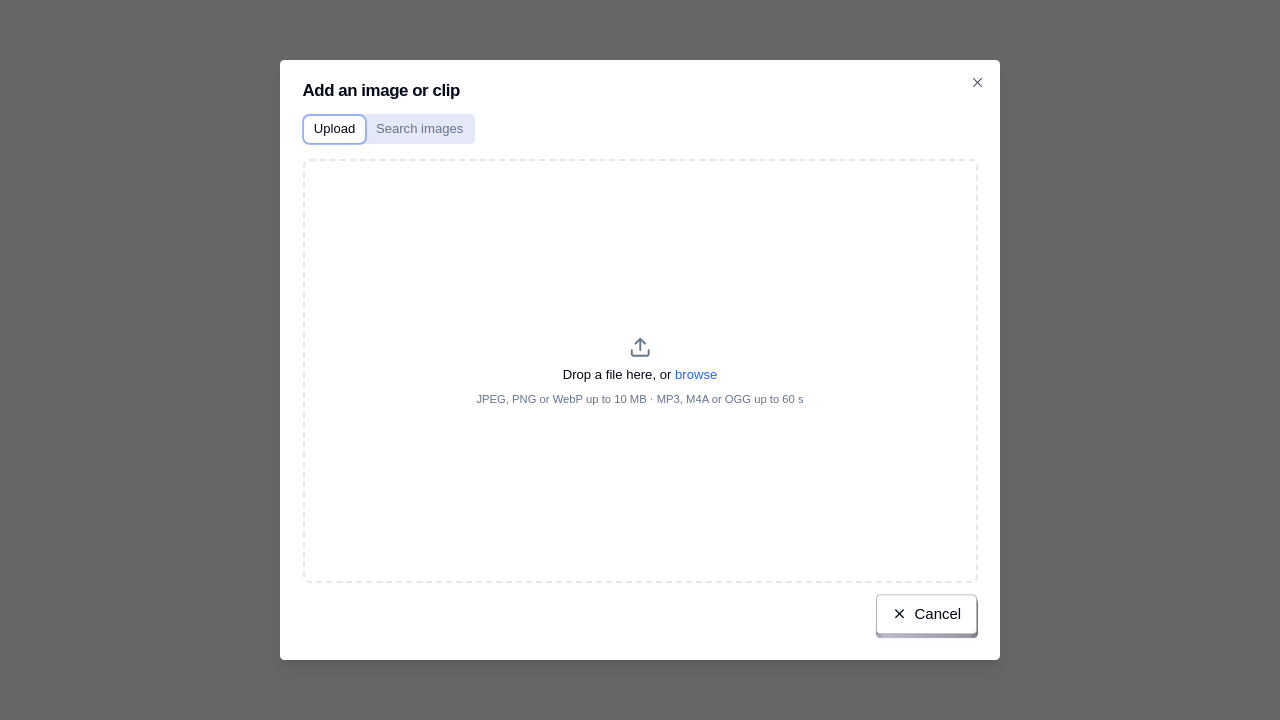
Test: AddMediaDialog — Search images › shows why an import was refused, and keeps the dialog open
The image size is (1280, 720).
Click the radio button labelled "Search images" at (420, 129), box [366,116,473,143]
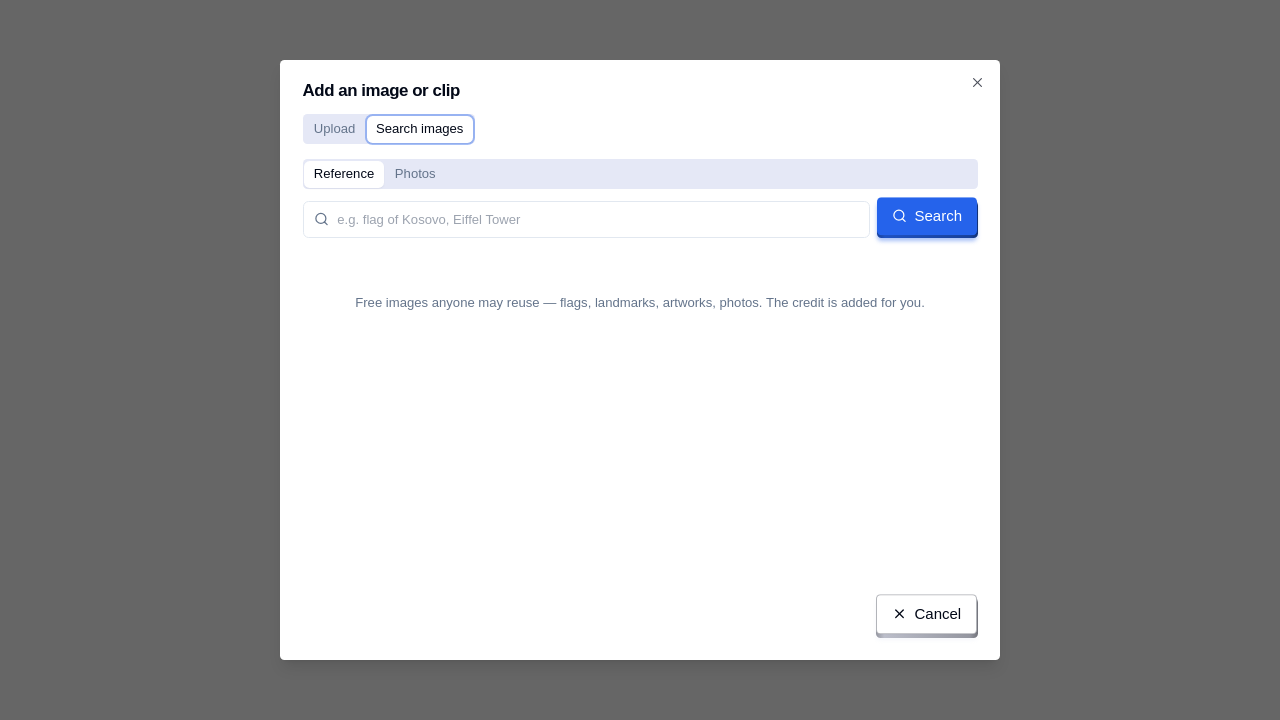
Expected: the search field named "Search free images" is shown
Type "flag" into the search field named "Search free images" at (586, 219), box [302,201,870,238]
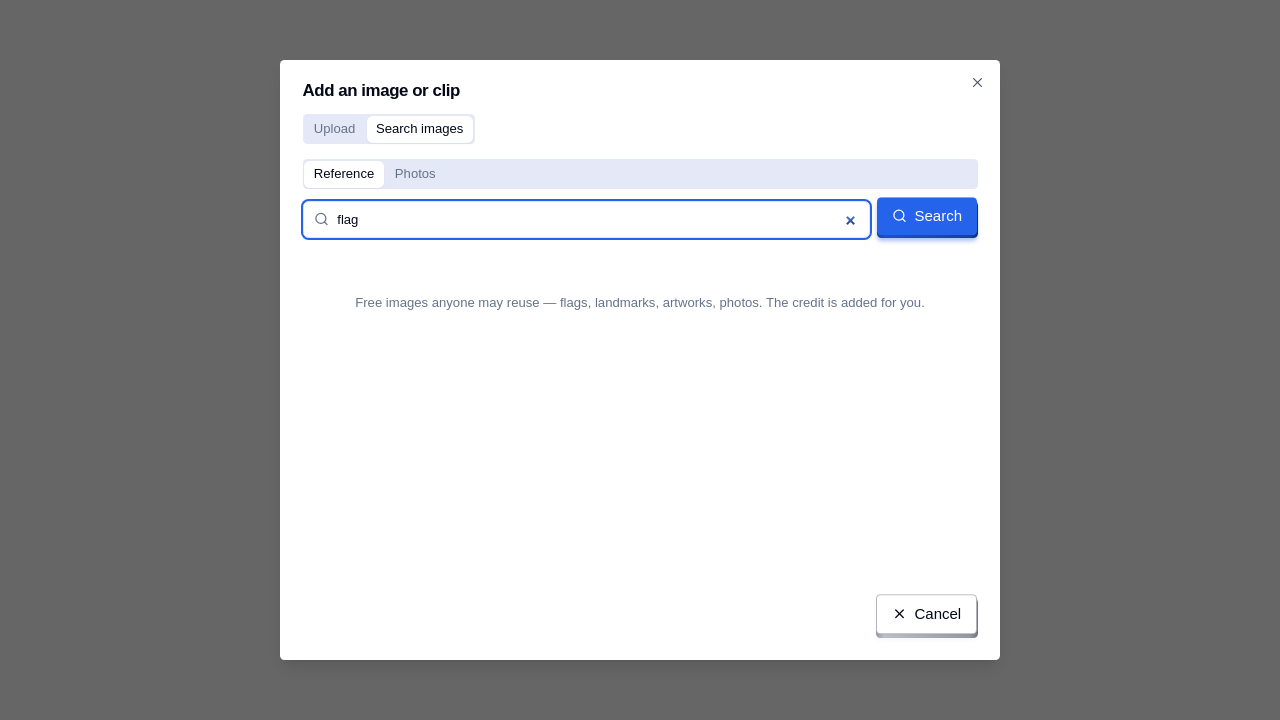
Click the button "Search" at (928, 219), box [878,201,978,238]
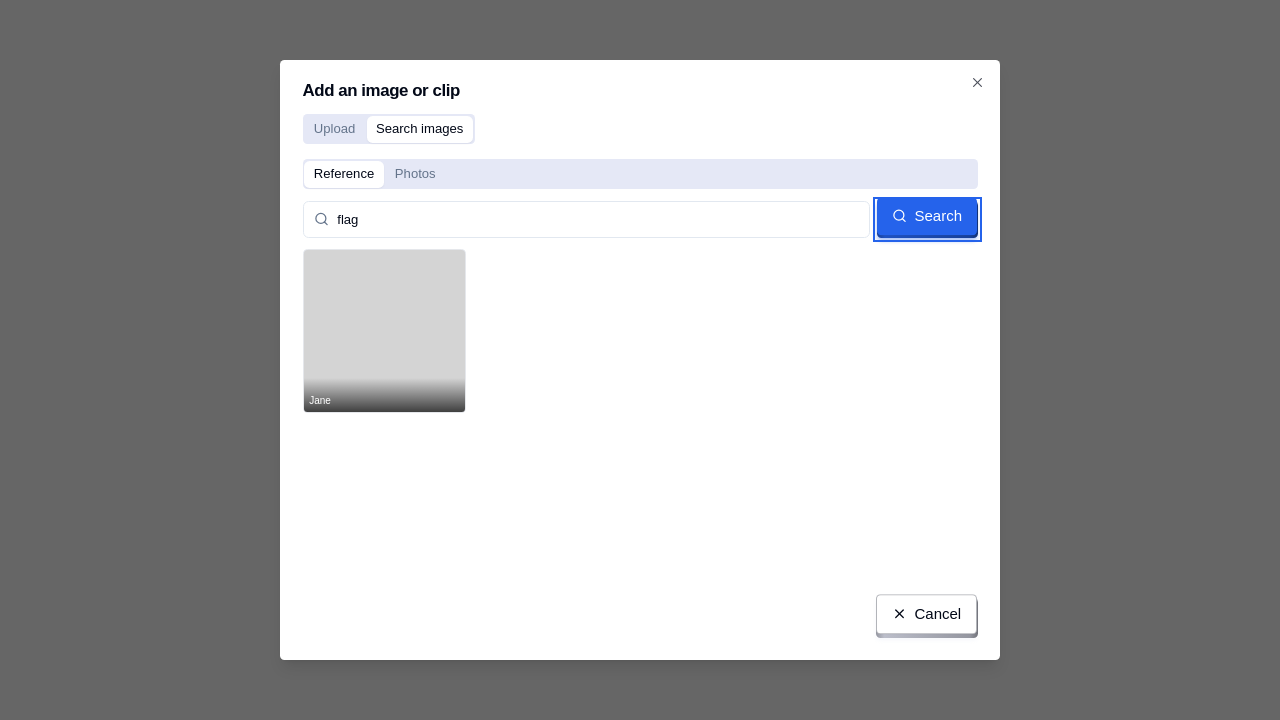
Click the button with aria-label "Flag of Kosovo" at (384, 331), box [302,249,466,412]
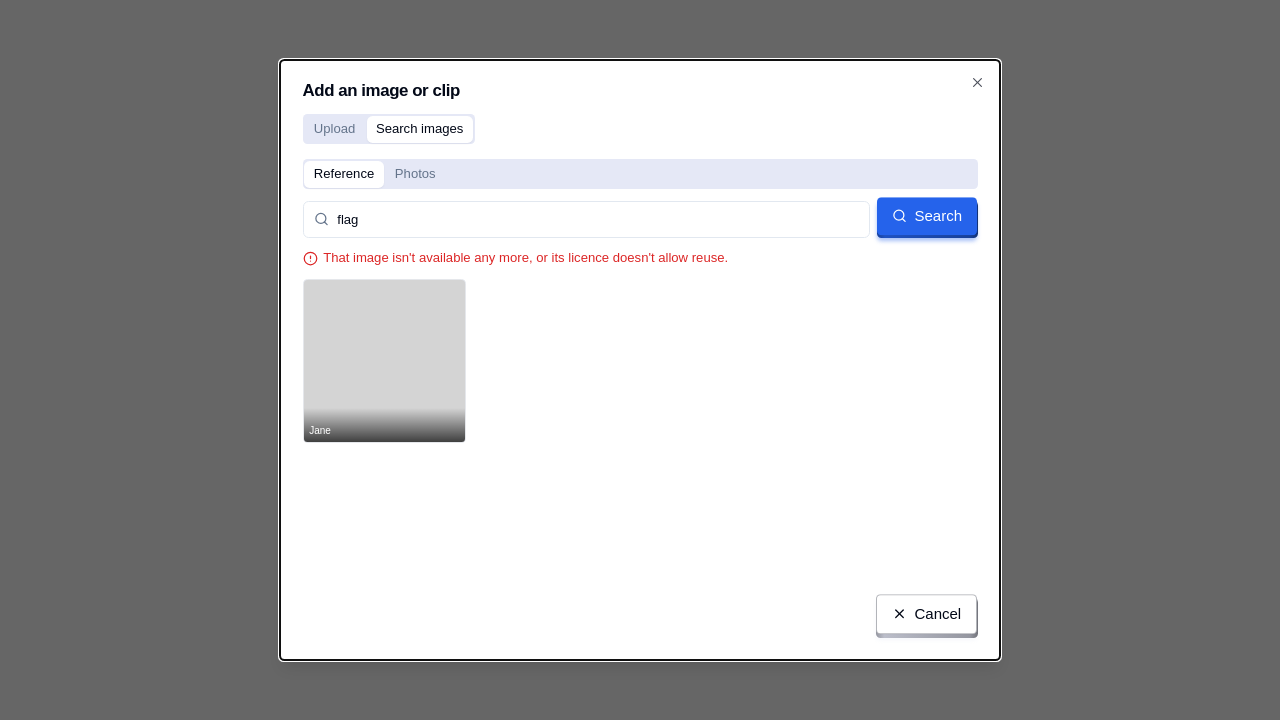
Expected: the message shows "licence doesn't allow reuse", [323,250,728,265]
